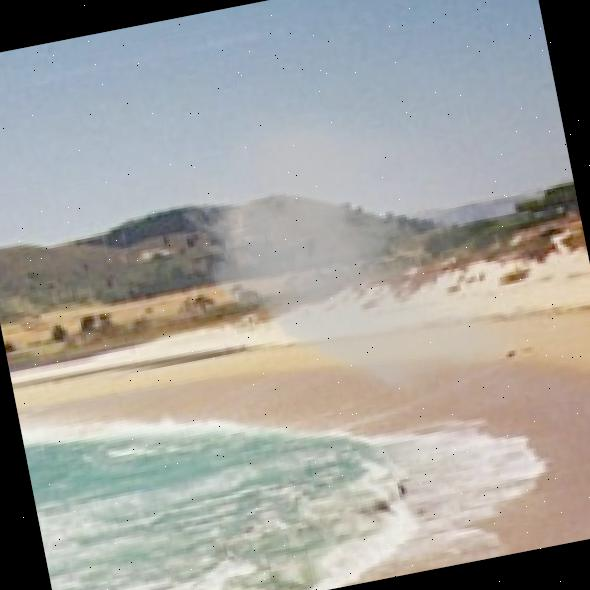smoke: (147, 40, 590, 469)
